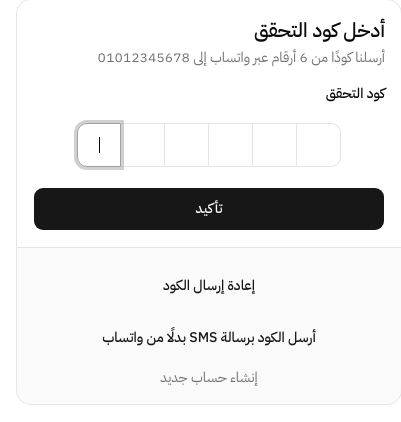
Test case: OtpVerifyForm › BR-CU07 'send by SMS' asks for the SMS channel and says so
Click the button "أرسل الكود برسالة SMS بدلًا من واتساب".
click(209, 338)  # box [91, 316, 327, 360]
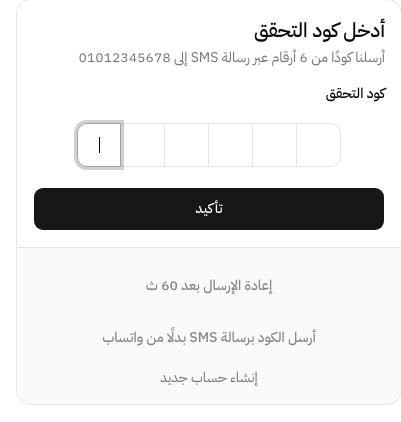
Check: the text "أرسلنا كودًا من 6 أرقام عبر رسالة SMS إلى 01012345678" is shown, box [33, 48, 385, 68]
